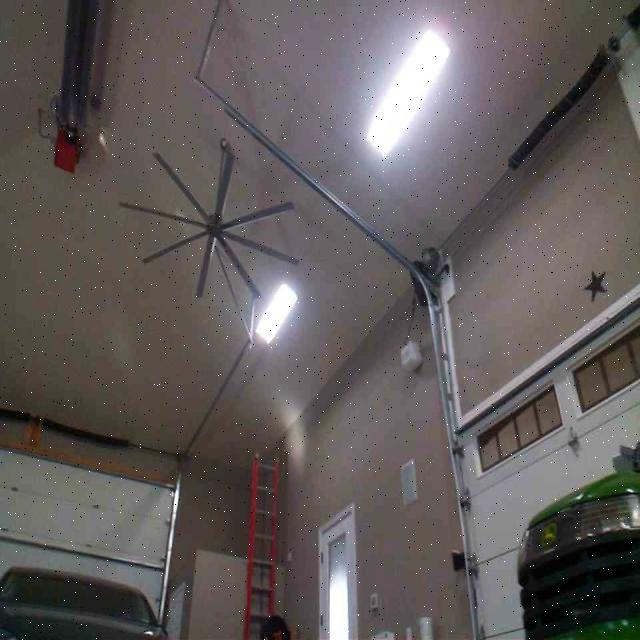star_black: (584, 267, 606, 301)
